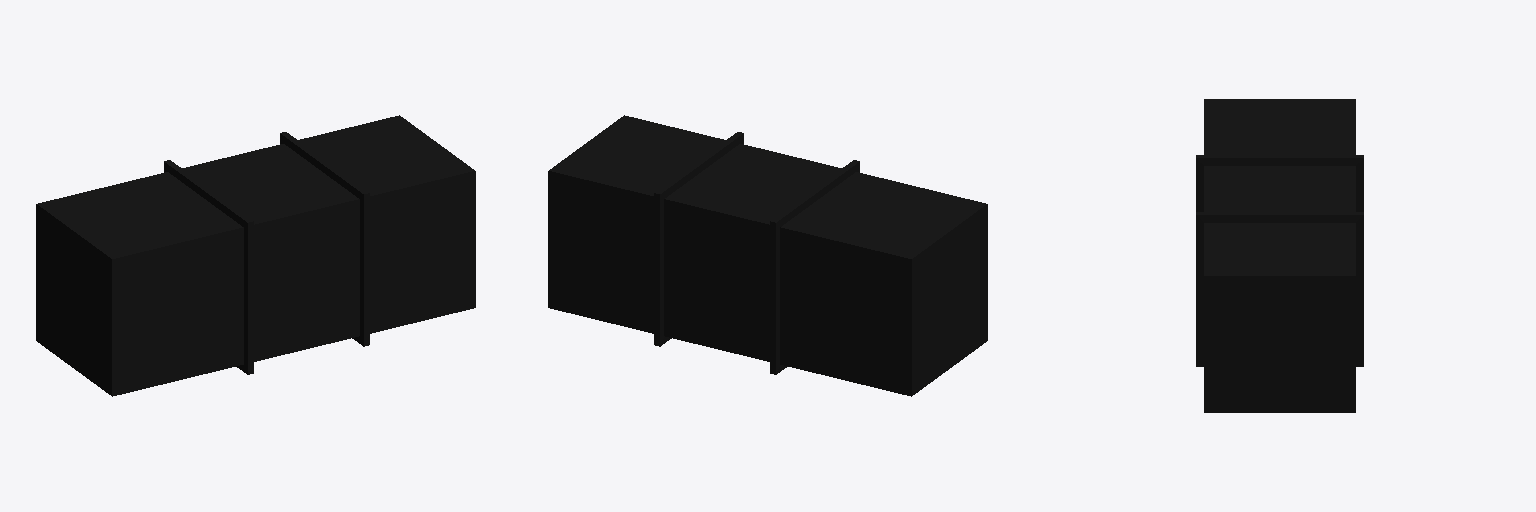
Rendered from pipe_ac_system.obj.
3 renders of one model, left to right at view 1: azimuth 30°, elevation 25°; view 2: azimuth 150°, elevation 25°; view 3: azimuth 270°, elevation 25°, orthographic.
Parts seen in each view (by area): view 1: Cube.022_Cube.033; view 2: Cube.022_Cube.033; view 3: Cube.022_Cube.033.
Boxes of the visible parts, box(x1,y1,x2,y2) form: Cube.022_Cube.033: box(36, 115, 475, 396); Cube.022_Cube.033: box(548, 115, 987, 396); Cube.022_Cube.033: box(1196, 99, 1363, 412).
Size of the model in its own units: 1.66 by 0.665 by 0.665.